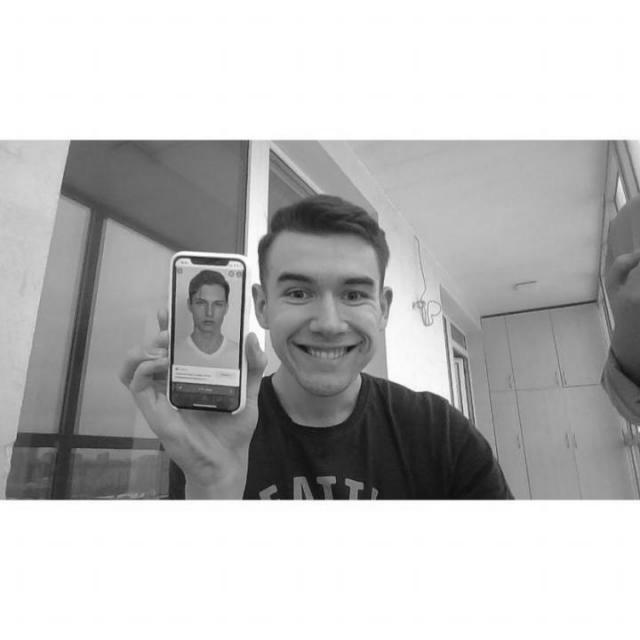fake: (164, 250, 254, 416)
real: (270, 232, 380, 398)
